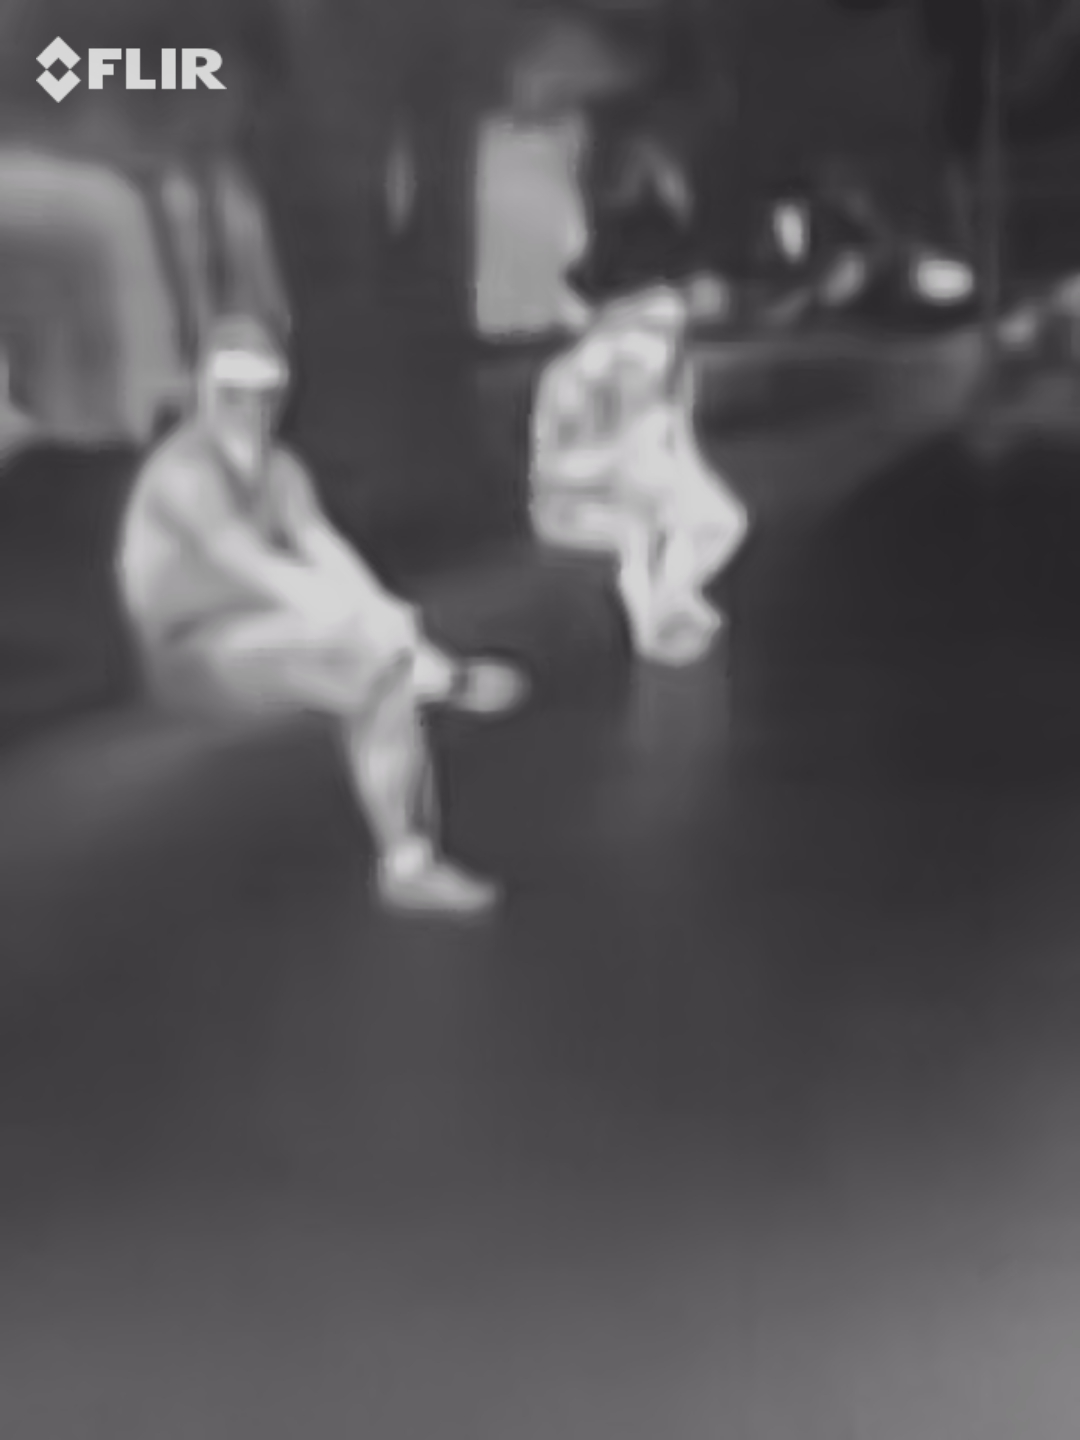head: (201, 315, 291, 453)
